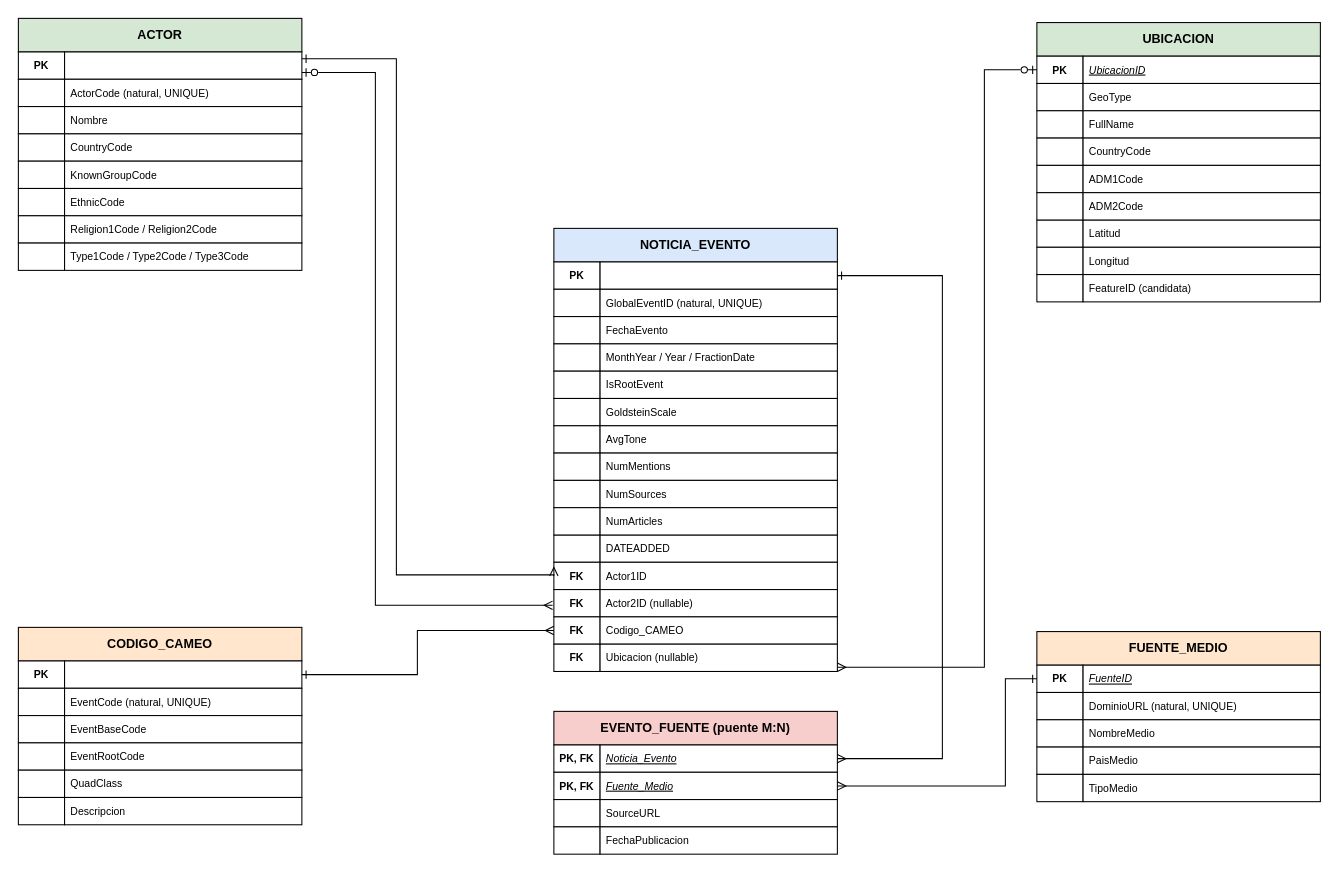
The diagram is 1339 pixels wide and 873 high, and some of its shapes have lost their labels. The centre of each missing label's shape, as x and y in pixels:
"ActorID" belongs at point 183,65.
"CodigoCameoID" belongs at point 183,674.
"EventoID" belongs at point 718,275.
